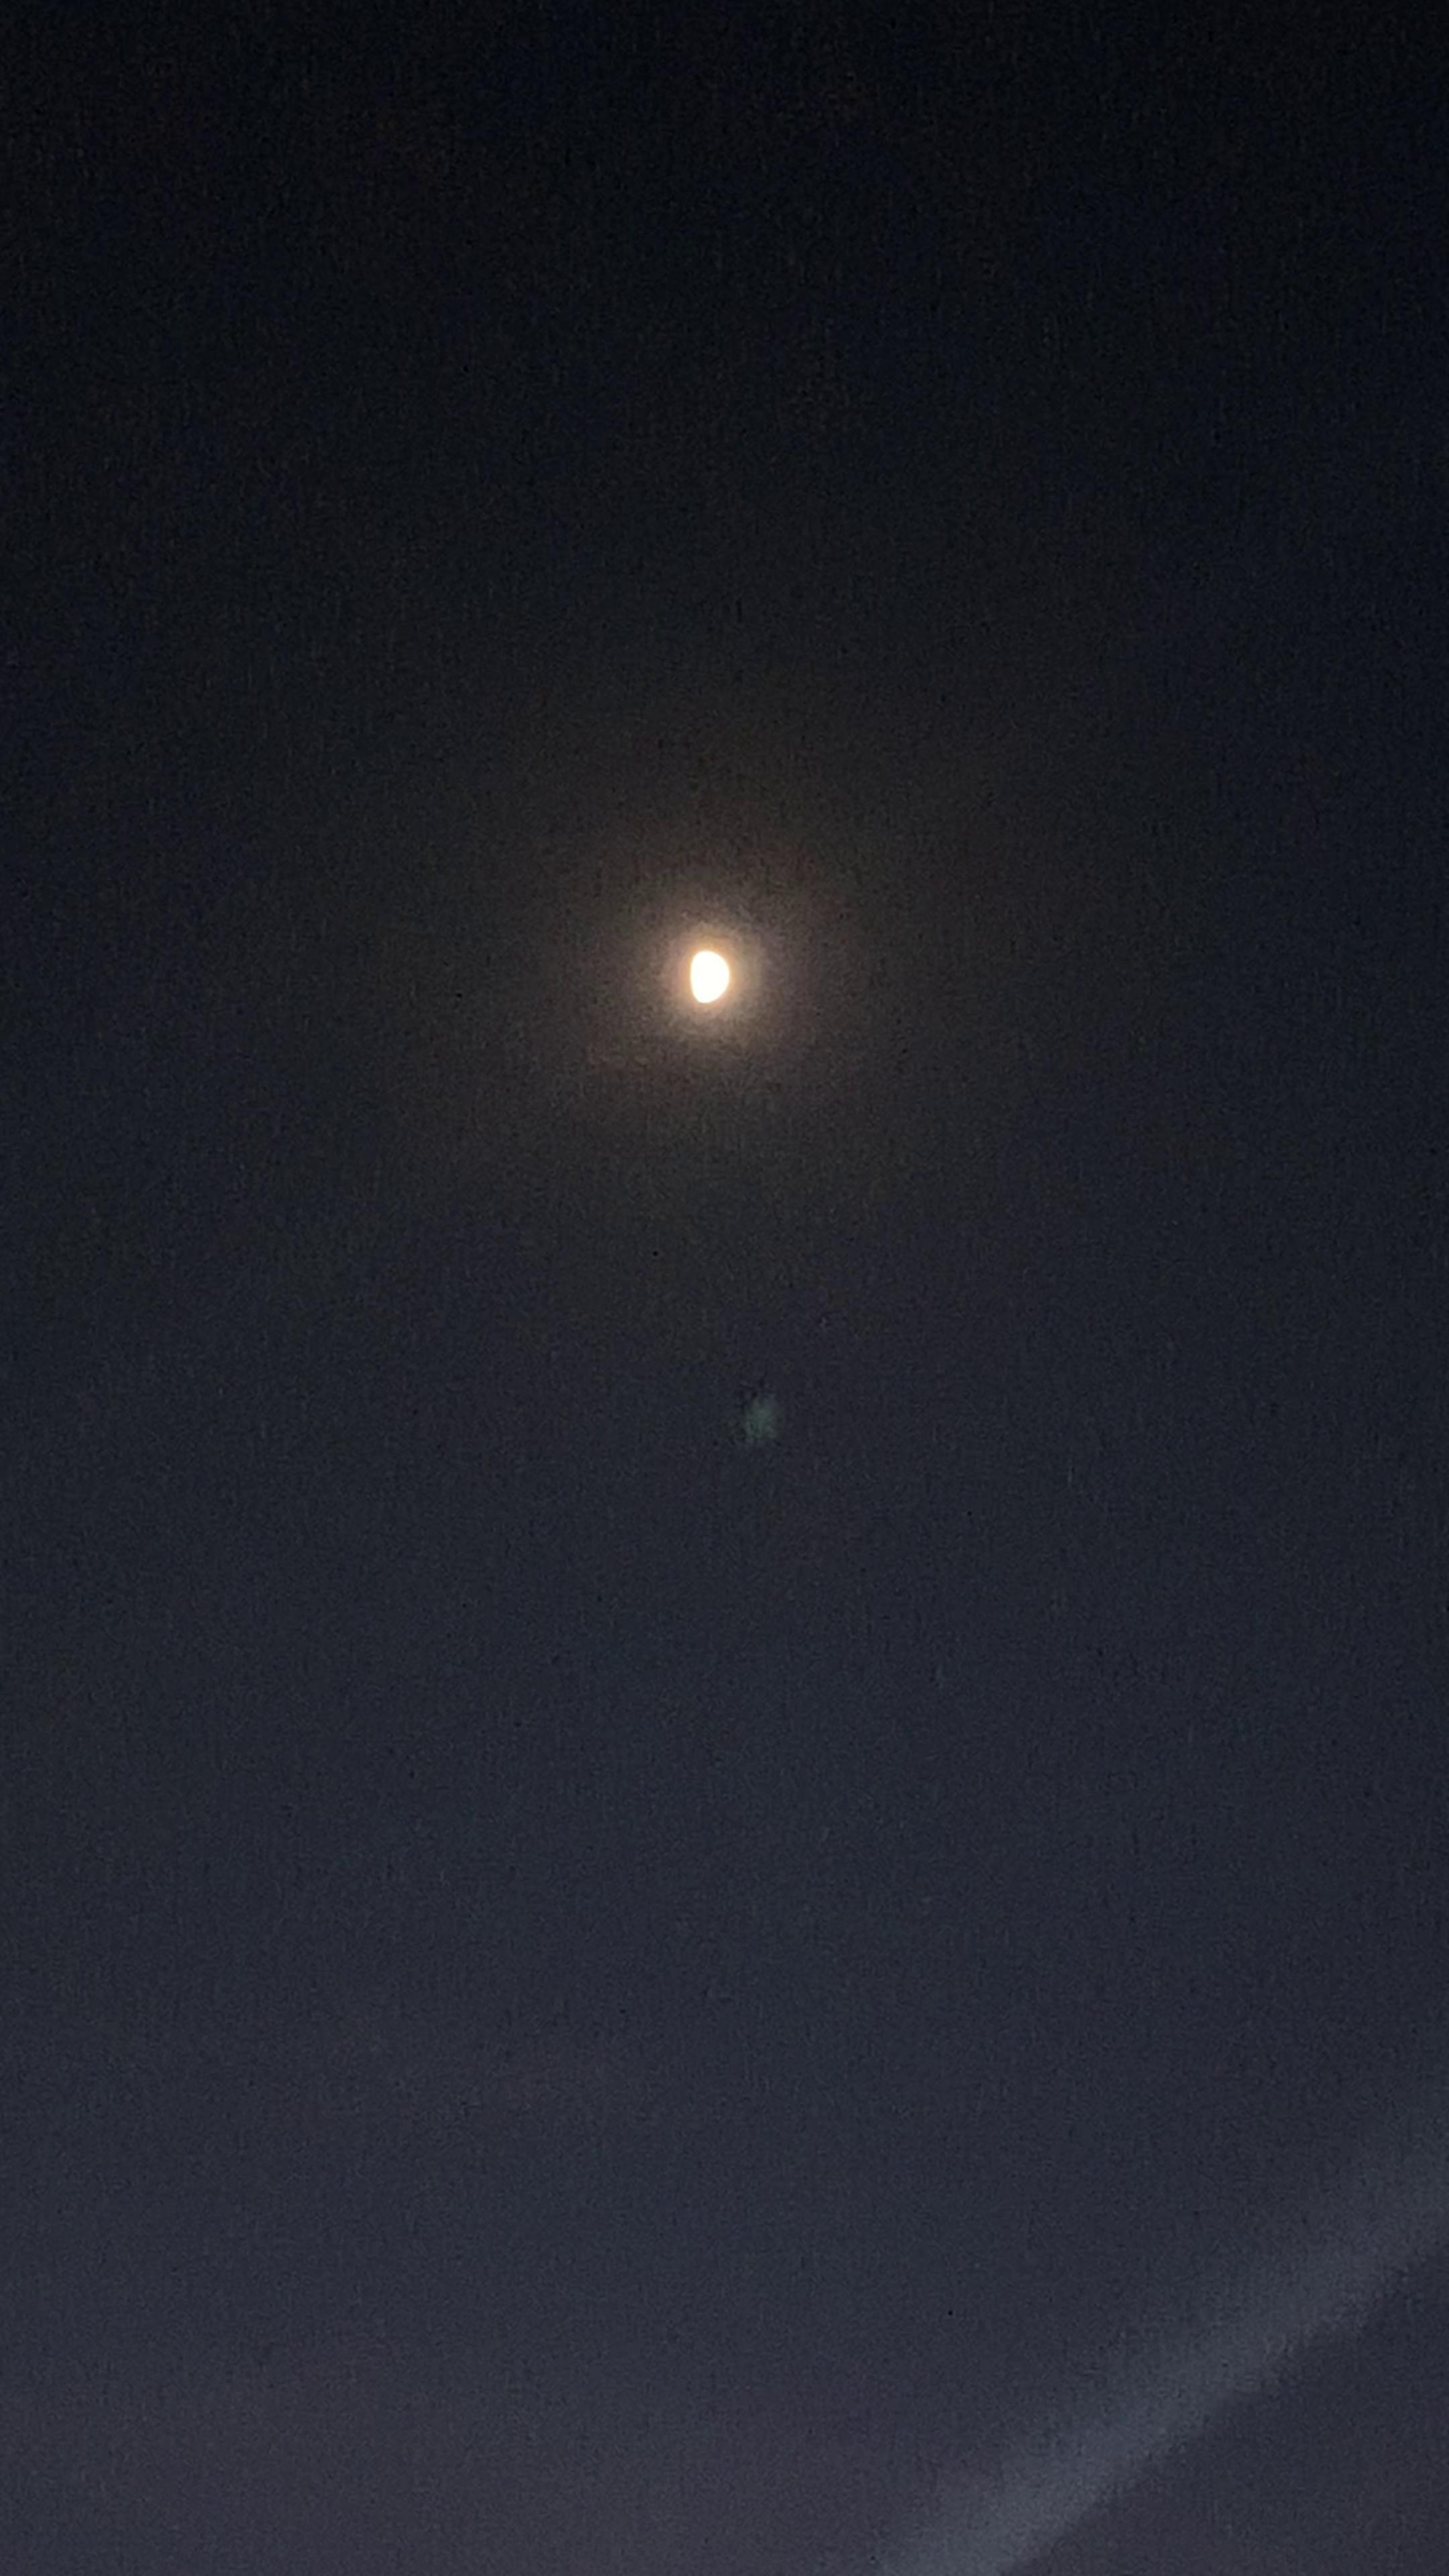moon: (662, 916, 763, 1033)
